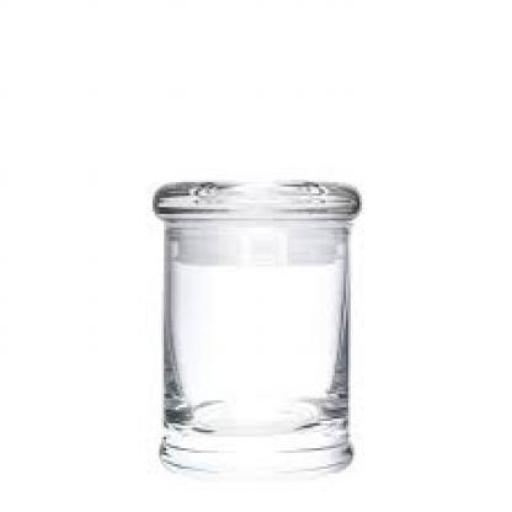glass: (152, 179, 358, 476)
